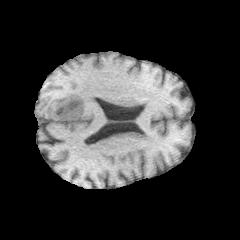glioma: (38, 93, 85, 120)
